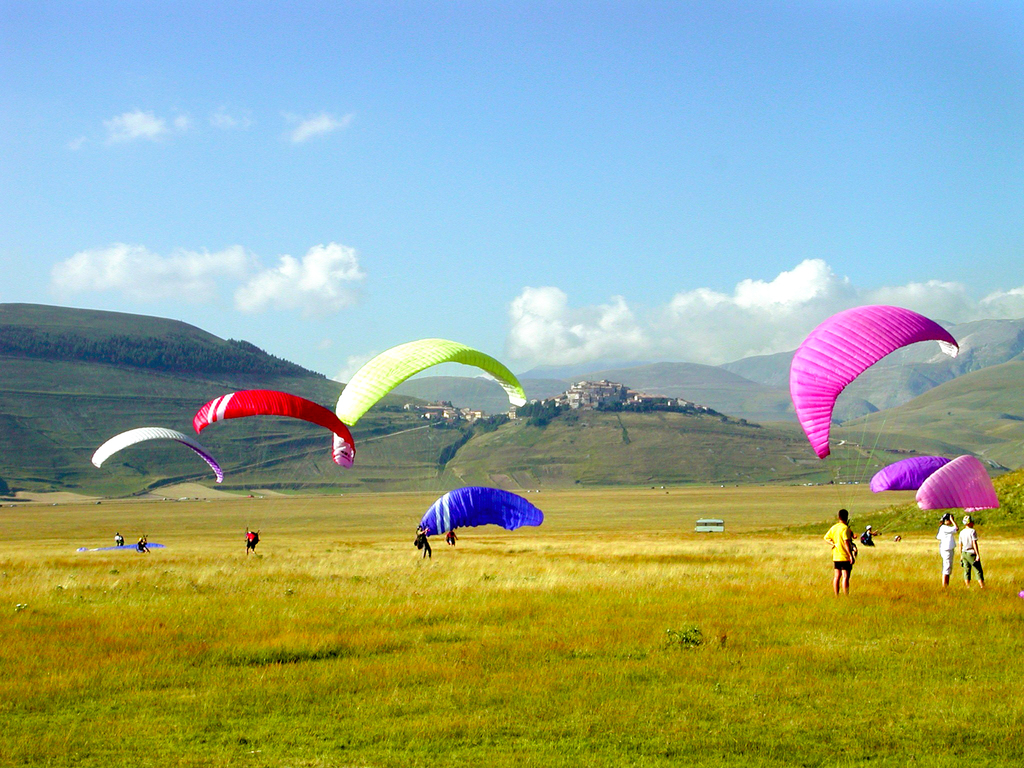Person: (824, 506, 855, 596), (958, 514, 986, 590), (935, 512, 960, 588), (416, 524, 430, 559), (861, 524, 881, 546)
